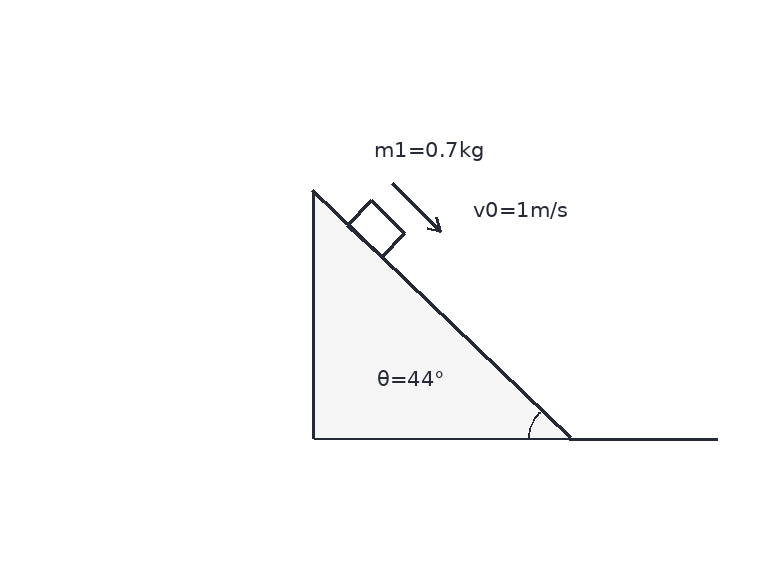block: (345, 198, 406, 259)
ramp: (311, 190, 571, 441)
